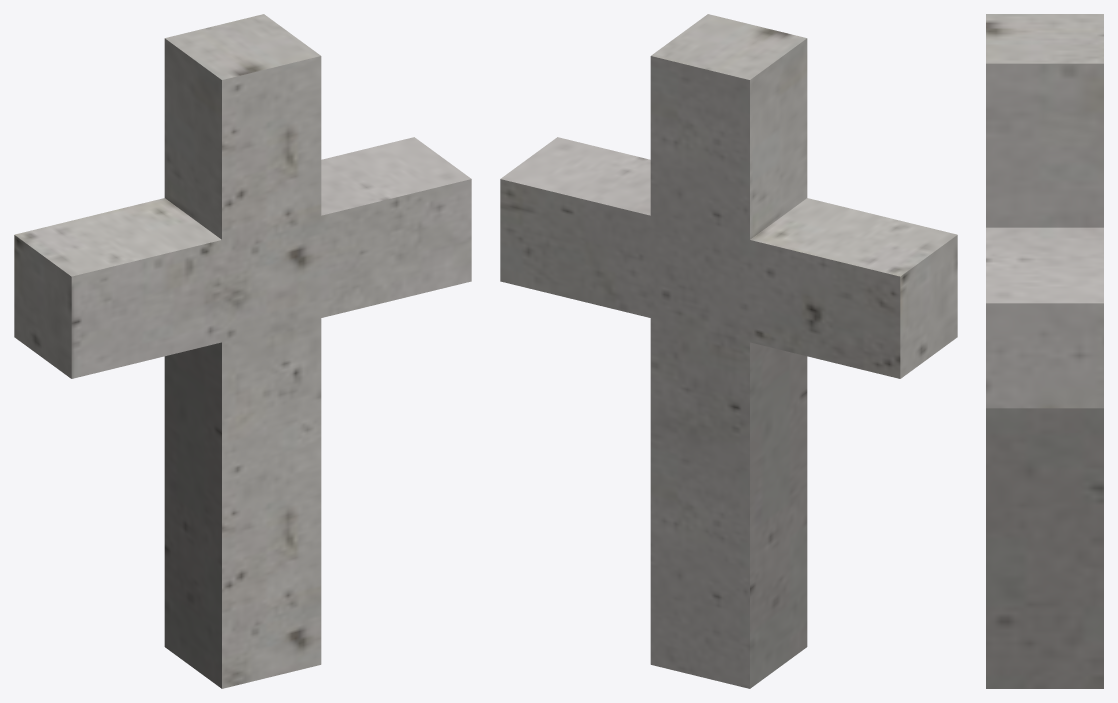
File: cross.fbx
3 views of the same model, side by side, from view 1: azimuth 30°, elevation 25°; view 2: azimuth 150°, elevation 25°; view 3: azimuth 270°, elevation 25° (orthographic). The views are drawn at different scales.
Parts seen in each view (by area): view 1: pCube1; view 2: pCube1; view 3: pCube1.
Boxes of the visible parts, left/top/right/bottom form: pCube1: left=14, top=14, right=471, bottom=688; pCube1: left=500, top=14, right=957, bottom=688; pCube1: left=986, top=14, right=1103, bottom=688.
Size of the model in its own units: 13.08 by 19.01 by 3.24.
1 material, 1 textured.
